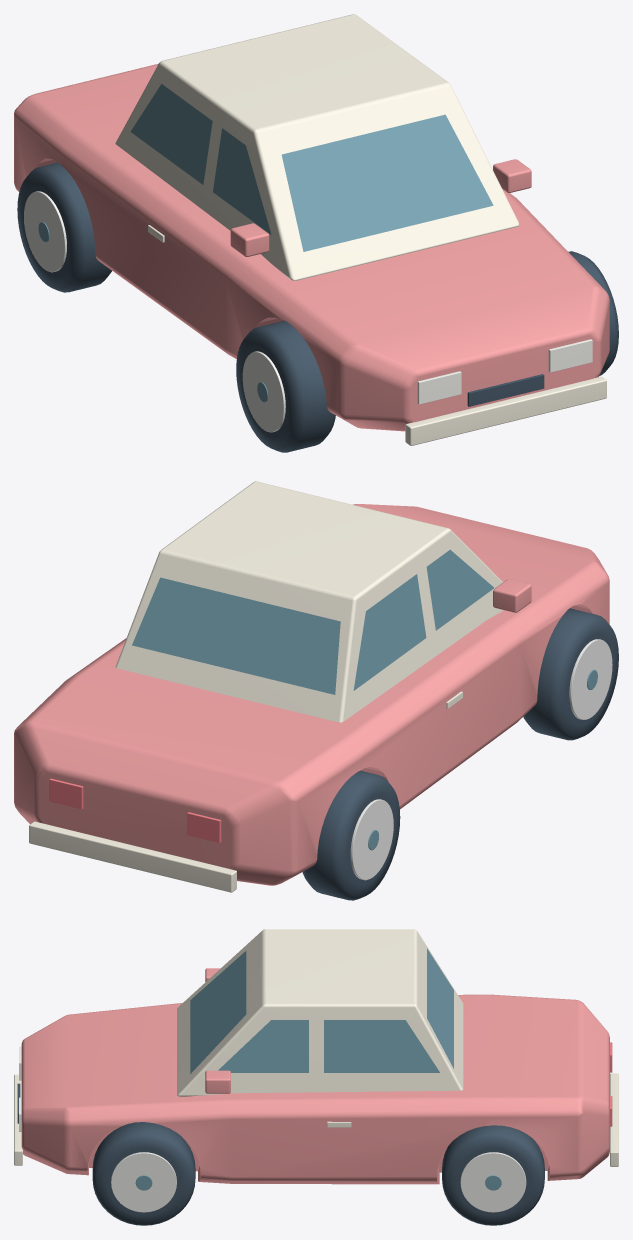
The model's file is SoftCar.fbx.
3 renders of one model, top to bottom at view 1: azimuth 30°, elevation 25°; view 2: azimuth 150°, elevation 25°; view 3: azimuth 270°, elevation 25°, orthographic. The views are drawn at different scales.
Parts seen in each view (by area): view 1: HatchbackBody, CabinPanels, Windshield, LeftFrontWheel, LeftRearWheel, FrontBumper, LeftRearWindow, LeftFrontWindow, LeftFrontWheel_FlatRim, LeftRearWheel_FlatRim, FrontGrille, RightFrontWheel (+4 smaller); view 2: HatchbackBody, CabinPanels, RearWindshield, LeftFrontWheel, LeftRearWheel, RearBumper, LeftRearWindow, LeftFrontWindow, LeftRearWheel_FlatRim, LeftFrontWheel_FlatRim, LeftMirror, RightTailLight (+1 smaller); view 3: HatchbackBody, CabinPanels, RightFrontWheel, RightRearWheel, RightRearWindow, Windshield, RightFrontWindow, RightRearWheel_FlatRim, RightFrontWheel_FlatRim, RearWindshield, RearBumper, RightMirror (+1 smaller).
Boxes of the visible parts, x1=… form: HatchbackBody: x1=14, y1=64, x2=609, y2=431; CabinPanels: x1=115, y1=14, x2=519, y2=280; Windshield: x1=281, y1=114, x2=493, y2=251; LeftFrontWheel: x1=236, y1=320, x2=335, y2=452; LeftRearWheel: x1=17, y1=162, x2=111, y2=292; FrontBumper: x1=405, y1=376, x2=606, y2=445; LeftRearWindow: x1=130, y1=84, x2=212, y2=184; LeftFrontWindow: x1=213, y1=128, x2=271, y2=234; LeftFrontWheel_FlatRim: x1=242, y1=351, x2=285, y2=432; LeftRearWheel_FlatRim: x1=24, y1=191, x2=66, y2=272; FrontGrille: x1=467, y1=374, x2=544, y2=406; RightFrontWheel: x1=568, y1=251, x2=618, y2=375; HatchbackBody: x1=14, y1=504, x2=609, y2=885; CabinPanels: x1=115, y1=481, x2=503, y2=722; RearWindshield: x1=132, y1=577, x2=340, y2=694; LeftFrontWheel: x1=523, y1=608, x2=618, y2=740; LeftRearWheel: x1=302, y1=770, x2=400, y2=900; RearBumper: x1=29, y1=821, x2=236, y2=892; LeftRearWindow: x1=353, y1=574, x2=426, y2=690; LeftFrontWindow: x1=426, y1=549, x2=493, y2=630; LeftRearWheel_FlatRim: x1=350, y1=799, x2=393, y2=880; LeftFrontWheel_FlatRim: x1=569, y1=639, x2=612, y2=719; LeftMirror: x1=493, y1=579, x2=531, y2=612; RightTailLight: x1=49, y1=778, x2=83, y2=809; HatchbackBody: x1=21, y1=994, x2=609, y2=1184; CabinPanels: x1=177, y1=929, x2=463, y2=1096; RightFrontWheel: x1=92, y1=1122, x2=195, y2=1225; RightRearWheel: x1=442, y1=1125, x2=544, y2=1225; RightRearWindow: x1=324, y1=1020, x2=439, y2=1072; Windshield: x1=190, y1=951, x2=246, y2=1073; RightFrontWindow: x1=218, y1=1020, x2=308, y2=1072; RightRearWheel_FlatRim: x1=460, y1=1152, x2=526, y2=1212; RightFrontWheel_FlatRim: x1=111, y1=1152, x2=176, y2=1212; RearWindshield: x1=427, y1=948, x2=453, y2=1068; RearBumper: x1=610, y1=1073, x2=618, y2=1166; RightMirror: x1=205, y1=1070, x2=230, y2=1093.
Bounding box in the file's own units: 2.02 × 1.45 × 4.
